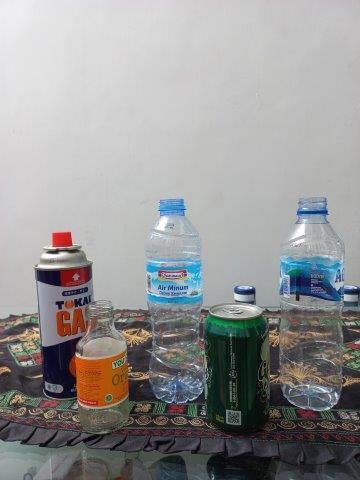botolkaca: (75, 301, 130, 431)
botolplastik: (277, 198, 344, 412), (146, 200, 205, 401)
kaleng: (32, 230, 93, 401), (204, 303, 269, 431)
